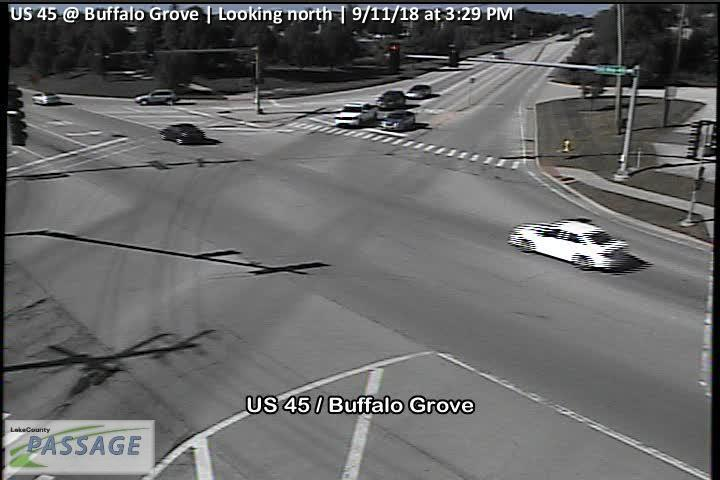SUV: (133, 88, 179, 108), (378, 90, 405, 109), (490, 50, 505, 62)
Sedan: (507, 217, 633, 274), (333, 100, 380, 129), (160, 122, 207, 148), (380, 109, 416, 134), (30, 89, 61, 106), (405, 83, 432, 100)
